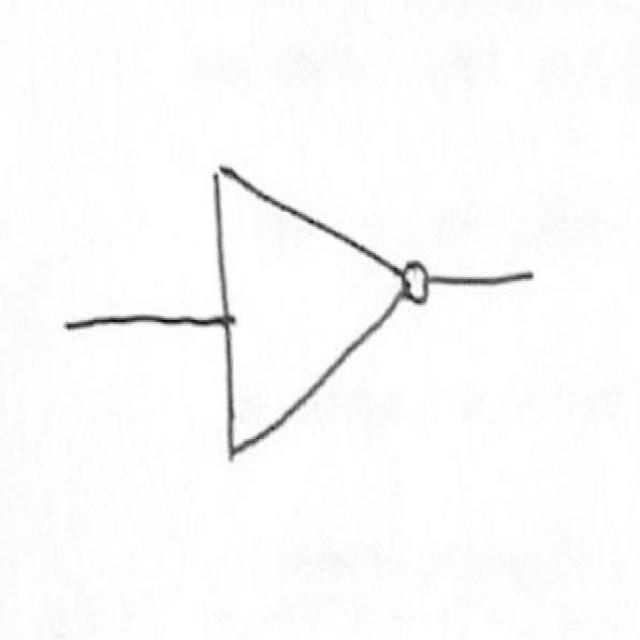NOT: (195, 130, 465, 472)
